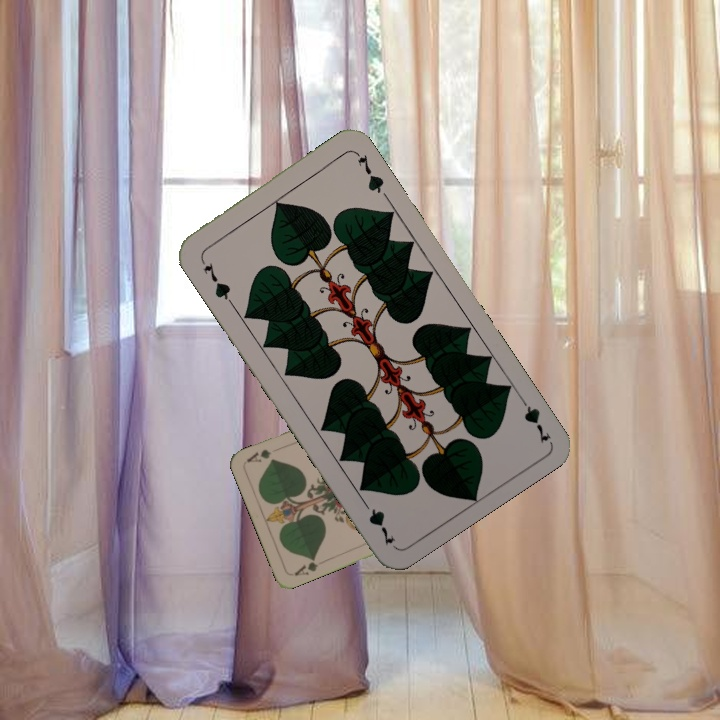G7: (514, 390, 554, 446), (196, 254, 235, 306)
GA: (290, 553, 321, 578)
